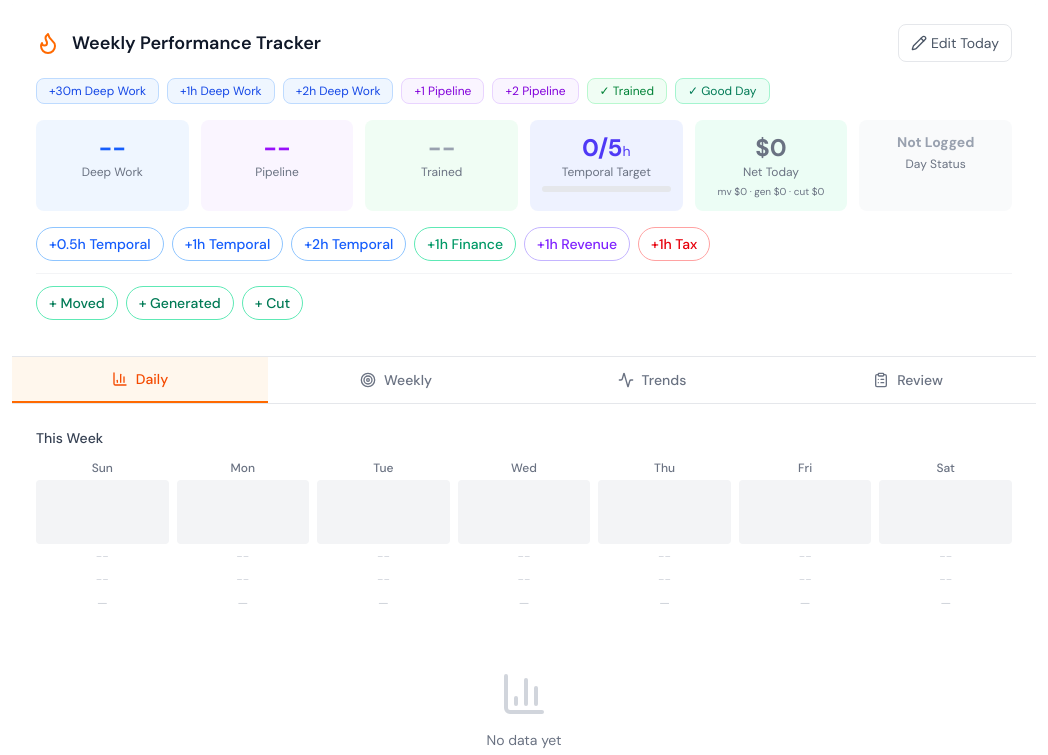
Test: WeeklyPerformanceTracker - Quick-Add Focus Buttons › shows success confirmation after quick-add
This screenshot has width=1048, height=755.
Click the button "+1h Temporal": (227,244) [172,227,283,261]
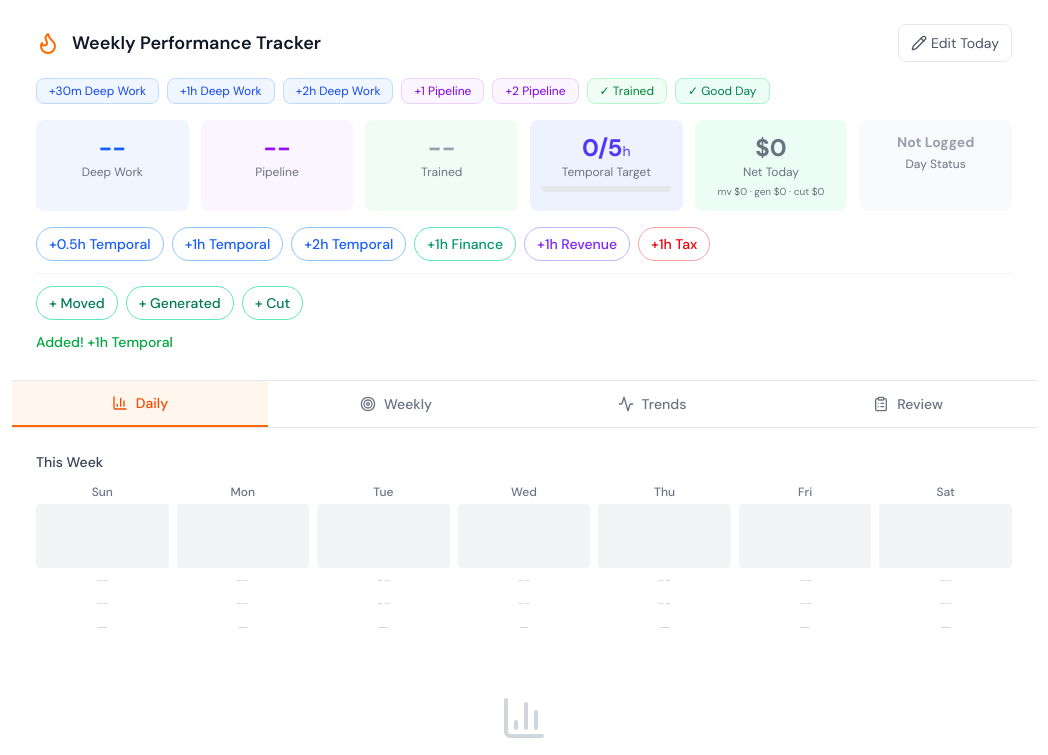
Check: the text "Added! +1h Temporal" is shown, box [36,333,173,351]
